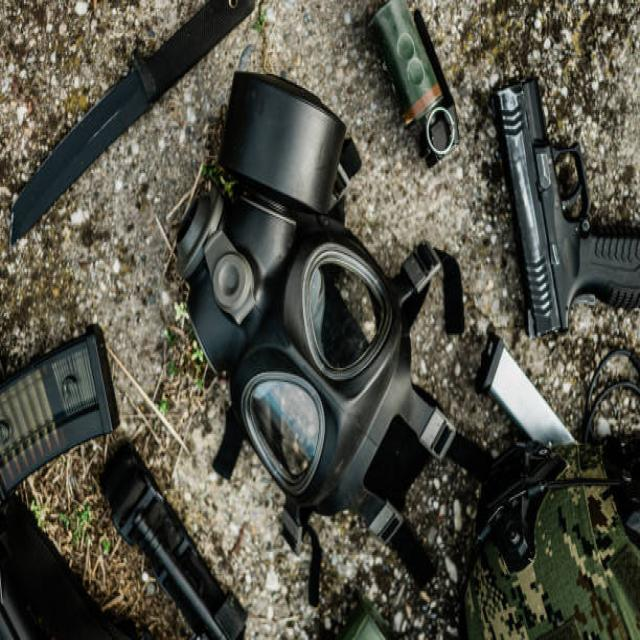grenade: (367, 1, 465, 174)
